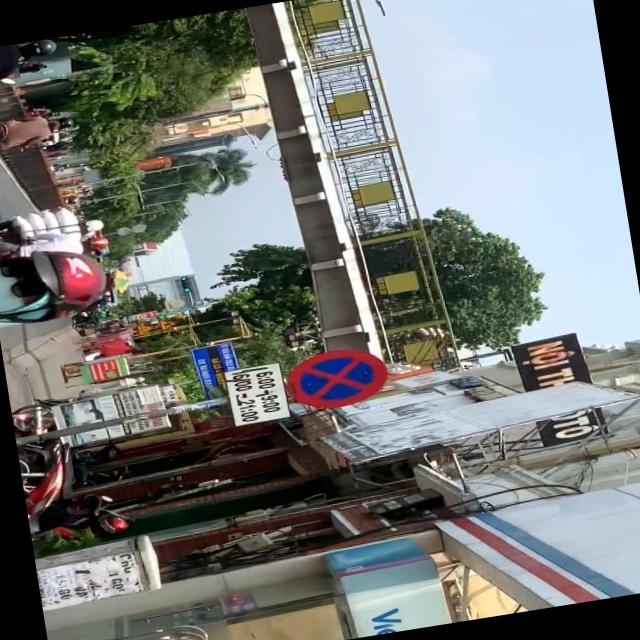P-130: (286, 344, 389, 412)
